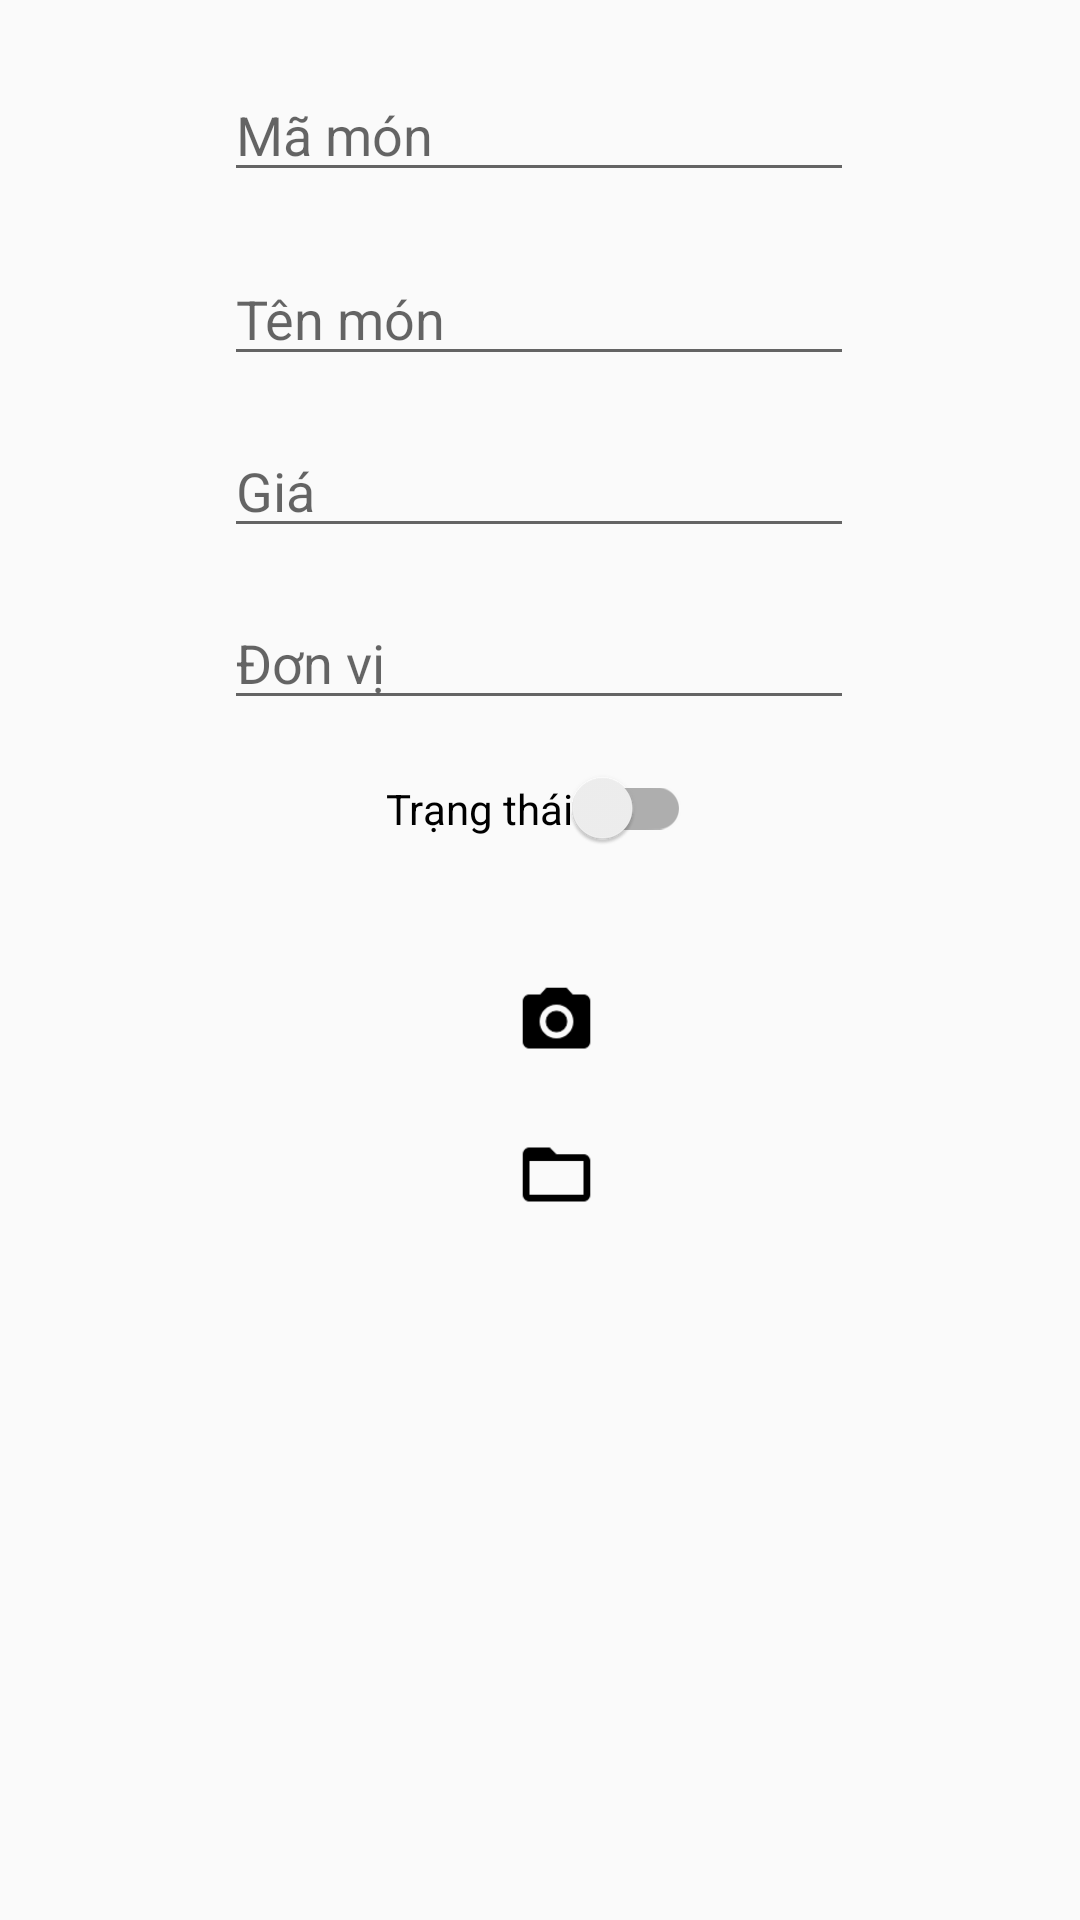

Screen size 1080×1920. Icon name, then its box in pixels as (x1, y1, x2, y2):
camera: (522, 987, 591, 1049)
folder open: (522, 1147, 591, 1202)
